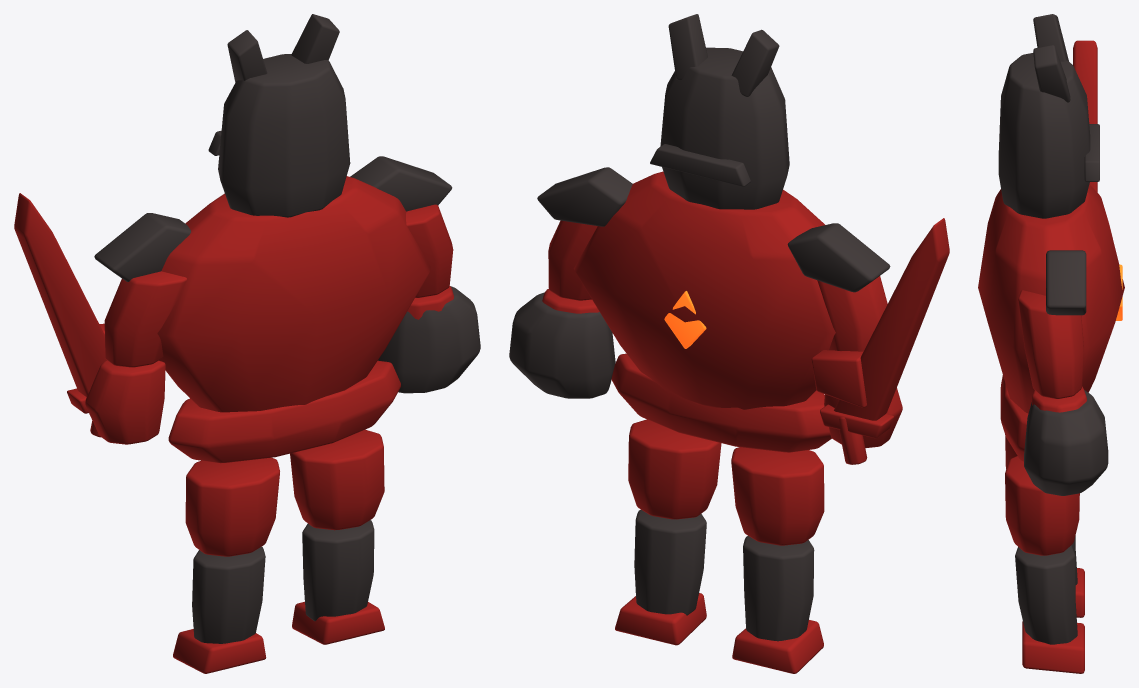
The model's file is chichuan_proxy_v001.glb.
3 views of the same model, side by side, from view 1: azimuth 30°, elevation 25°; view 2: azimuth 150°, elevation 25°; view 3: azimuth 270°, elevation 25° (orthographic). The views are drawn at different scales.
Visible parts, largest first — view 1: primary_torso_integrated, primary_helm_head_integrated, primary_pelvis_integrated, primary_thigh_L, primary_thigh_R, primary_weapon, right_heavy_fist_integrated, primary_shin_R, primary_shin_L, primary_forearm_L, primary_upper_arm_L, primary_shoulder_L (+7 smaller); view 2: primary_torso_integrated, primary_helm_head_integrated, primary_pelvis_integrated, right_heavy_fist_integrated, primary_thigh_L, primary_weapon, primary_thigh_R, primary_shin_R, primary_shin_L, primary_shoulder_L, primary_shoulder_R, primary_upper_arm_L (+12 smaller); view 3: primary_torso_integrated, primary_helm_head_integrated, right_heavy_fist_integrated, primary_upper_arm_R, primary_shin_R, primary_thigh_R, primary_shoulder_R, primary_foot_R, primary_weapon, helm_horn_R, primary_pelvis_integrated, helm_horn_L (+3 smaller).
Boxes of the visible parts, <box> form: primary_torso_integrated: <box>157,176,430,412</box>; primary_helm_head_integrated: <box>218,54,350,217</box>; primary_pelvis_integrated: <box>168,360,400,463</box>; primary_thigh_L: <box>185,457,279,556</box>; primary_thigh_R: <box>290,429,384,530</box>; primary_weapon: <box>14,193,106,396</box>; right_heavy_fist_integrated: <box>378,286,480,393</box>; primary_shin_R: <box>302,520,374,621</box>; primary_shin_L: <box>192,546,265,643</box>; primary_forearm_L: <box>85,360,165,444</box>; primary_upper_arm_L: <box>104,271,186,367</box>; primary_shoulder_L: <box>94,213,190,281</box>; primary_torso_integrated: <box>573,171,835,409</box>; primary_helm_head_integrated: <box>660,47,789,209</box>; primary_pelvis_integrated: <box>611,353,831,452</box>; right_heavy_fist_integrated: <box>509,292,615,398</box>; primary_thigh_L: <box>731,447,824,545</box>; primary_weapon: <box>834,218,949,420</box>; primary_thigh_R: <box>628,419,721,519</box>; primary_shin_R: <box>634,509,706,615</box>; primary_shin_L: <box>743,536,814,641</box>; primary_shoulder_L: <box>787,223,890,292</box>; primary_shoulder_R: <box>537,167,632,226</box>; primary_upper_arm_L: <box>817,276,887,351</box>; primary_torso_integrated: <box>978,184,1124,413</box>; primary_helm_head_integrated: <box>998,53,1090,218</box>; right_heavy_fist_integrated: <box>1024,390,1108,495</box>; primary_upper_arm_R: <box>1018,290,1083,398</box>; primary_shin_R: <box>1015,545,1077,644</box>; primary_thigh_R: <box>1005,456,1079,555</box>; primary_shoulder_R: <box>1046,250,1086,315</box>; primary_foot_R: <box>1022,621,1084,673</box>; primary_weapon: <box>1073,40,1097,192</box>; helm_horn_R: <box>1033,45,1070,102</box>; primary_pelvis_integrated: <box>1000,375,1028,461</box>; helm_horn_L: <box>1033,14,1068,61</box>.
Bounding box in the file's own units: 6.75 × 9.01 × 1.99.
